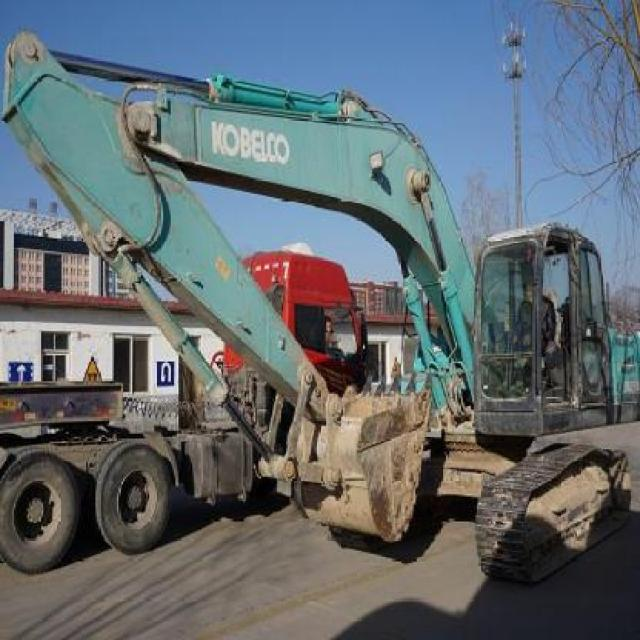dump_truck: (3, 234, 368, 569)
excavator: (1, 22, 630, 586)
